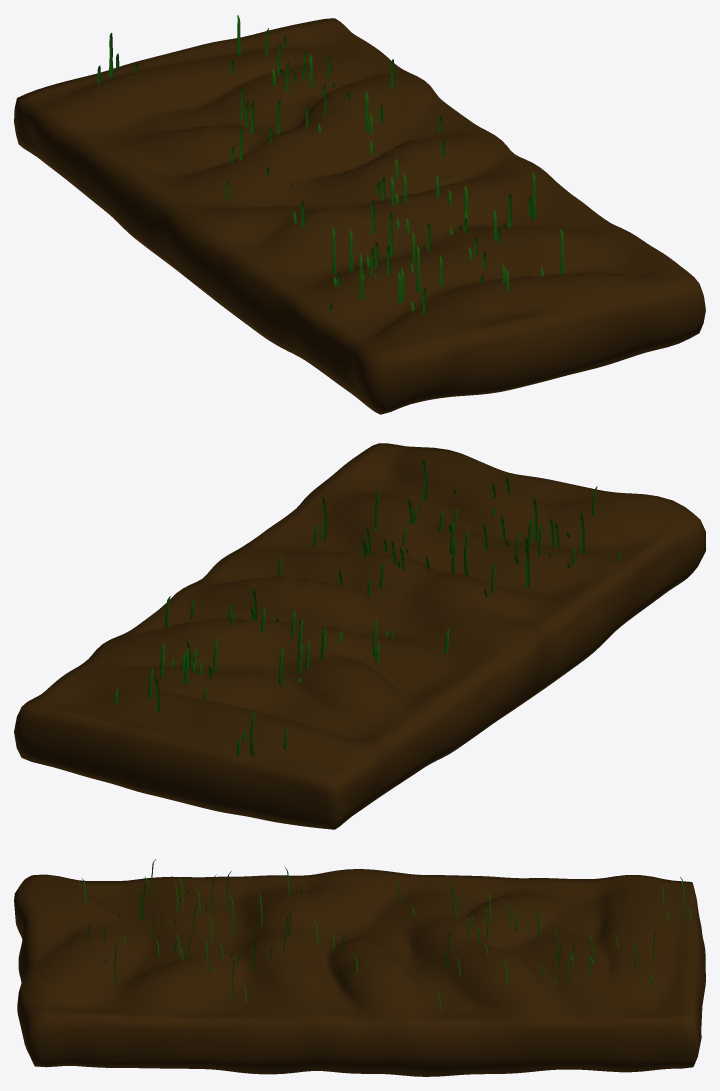
File: chao.fbx
The picture shows the model from 3 angles, top to bottom: view 1: azimuth 30°, elevation 25°; view 2: azimuth 150°, elevation 25°; view 3: azimuth 270°, elevation 25°; orthographic projection. The views are drawn at different scales.
Visible parts, largest first — view 1: Plane.114; view 2: Plane.114; view 3: Plane.114.
Part boxes in pixels (box(x1,y1,x2,y2)): Plane.114: box(14, 15, 705, 414); Plane.114: box(14, 443, 705, 829); Plane.114: box(14, 859, 705, 1076).
Size of the model in its own units: 446 by 135 by 848.
